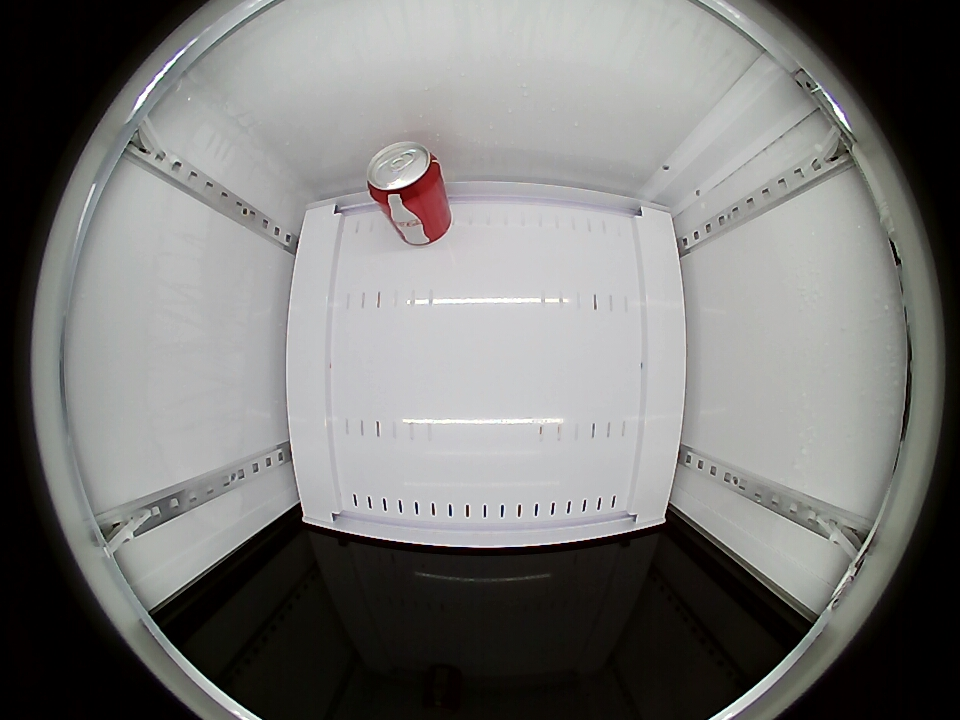kele: (366, 141, 443, 202)
